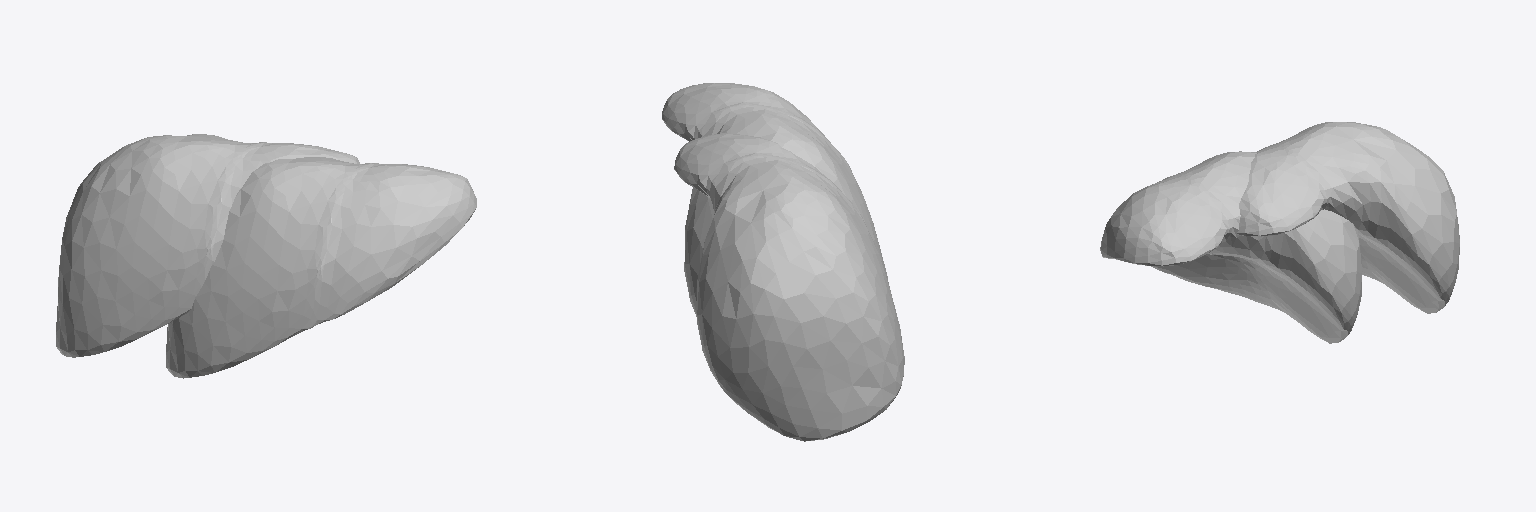
The model's file is pic3.obj.
3 renders of one model, left to right at view 1: azimuth 30°, elevation 25°; view 2: azimuth 150°, elevation 25°; view 3: azimuth 270°, elevation 25°, orthographic.
Visible parts, largest first — view 1: default01, default; view 2: default, default01; view 3: default01, default.
Part boxes in pixels (left/top/right/bottom): default01: left=166, top=157, right=476, bottom=378; default: left=56, top=134, right=359, bottom=357; default: left=674, top=133, right=904, bottom=441; default01: left=662, top=83, right=888, bottom=316; default01: left=1100, top=151, right=1361, bottom=343; default: left=1237, top=122, right=1459, bottom=313.
Bounding box in the file's own units: 7.39 × 4.76 × 7.27.